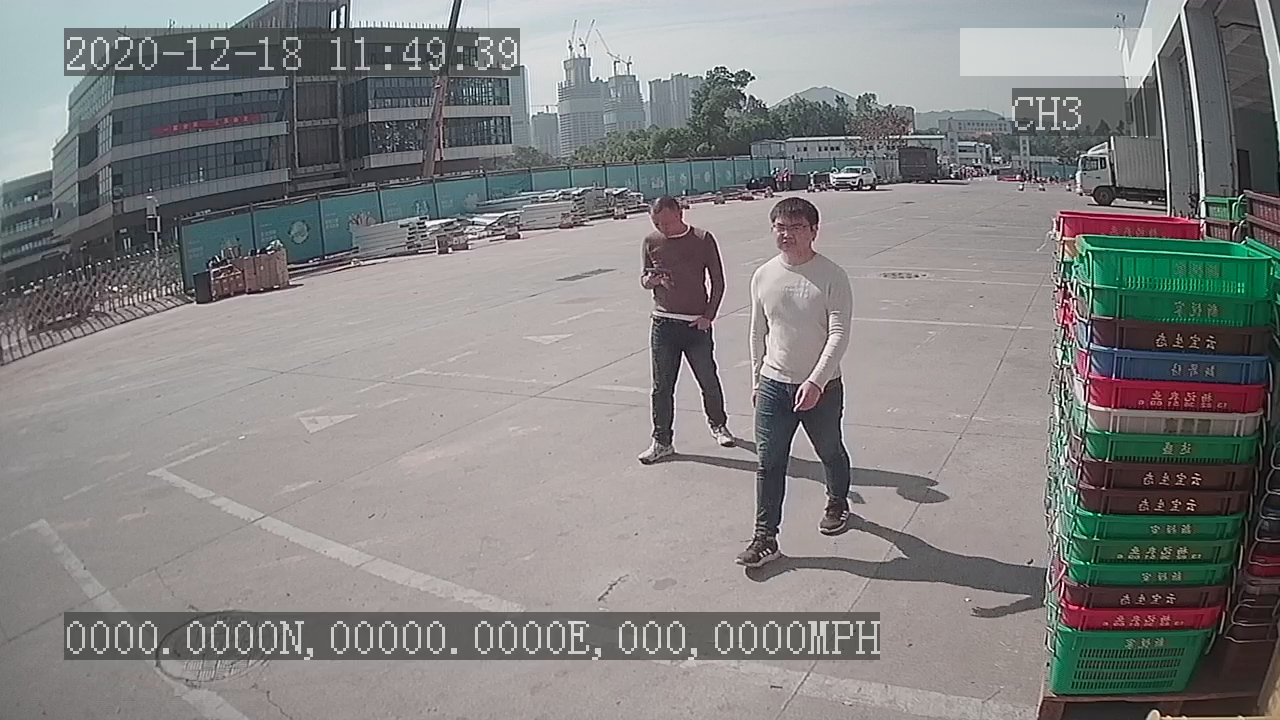person: (734, 194, 856, 579), (631, 188, 738, 472)
